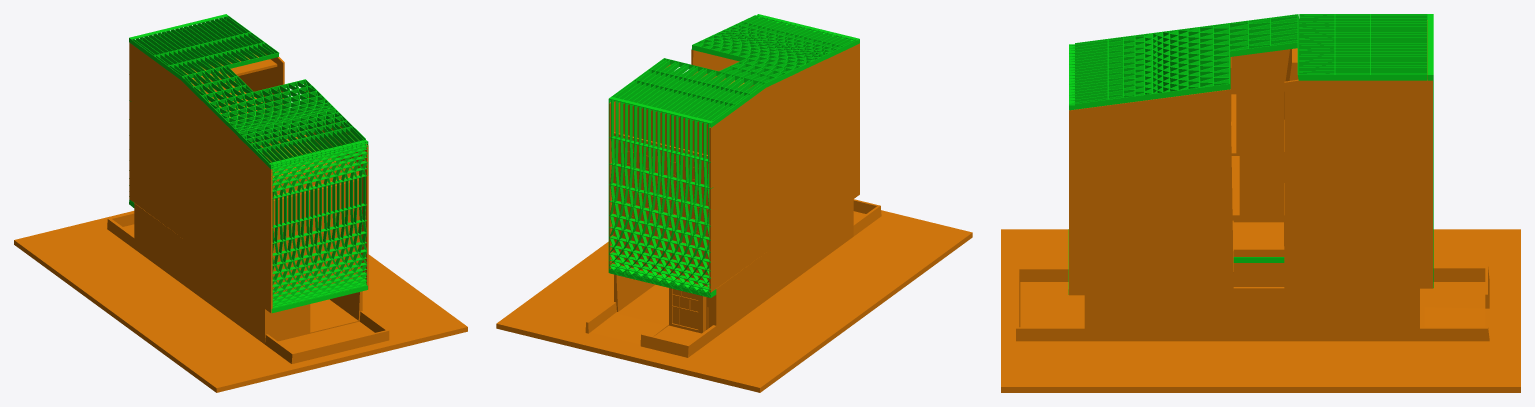
File: PencilBuilding.fbx
3 renders of one model, left to right at view 1: azimuth 30°, elevation 25°; view 2: azimuth 150°, elevation 25°; view 3: azimuth 270°, elevation 25°, orthographic. The views are drawn at different scales.
Visible parts, largest first — view 1: pencil.018, Plane, Cube.009, Cube.007, Cube.012, Cube.008, Cube.047, Plane.001, Cube.006, Cube.020, Cube.010, Cube.003; view 2: Plane, pencil.018, Cube.009, Cube.007, Cube.011, Plane.001, Cube.051, Cube.008, Cube.020, Cube.013, Cube.010, Cube.019; view 3: Cube.008, Plane, pencil.018, Cube.010, Cube.009, Cube.007, Plane.001, Cube.019, Cube.020, Cube.045, Cube.046, Cube.004.
Boxes of the visible parts, x1=… form: pencil.018: x1=129, y1=14, x2=368, y2=313; Plane: x1=14, y1=211, x2=467, y2=392; Cube.009: x1=129, y1=42, x2=272, y2=313; Cube.007: x1=134, y1=203, x2=310, y2=344; Cube.012: x1=273, y1=179, x2=360, y2=300; Cube.008: x1=238, y1=51, x2=368, y2=289; Cube.047: x1=293, y1=330, x2=386, y2=363; Plane.001: x1=310, y1=299, x2=358, y2=333; Cube.006: x1=272, y1=135, x2=358, y2=199; Cube.020: x1=107, y1=212, x2=134, y2=248; Cube.010: x1=330, y1=291, x2=362, y2=321; Cube.003: x1=182, y1=53, x2=277, y2=86; Plane: x1=496, y1=210, x2=972, y2=392; pencil.018: x1=608, y1=14, x2=859, y2=297; Cube.009: x1=709, y1=43, x2=859, y2=292; Cube.007: x1=669, y1=189, x2=853, y2=336; Cube.011: x1=613, y1=139, x2=709, y2=286; Plane.001: x1=591, y1=284, x2=668, y2=344; Cube.051: x1=623, y1=105, x2=707, y2=154; Cube.008: x1=609, y1=49, x2=739, y2=268; Cube.020: x1=640, y1=325, x2=716, y2=357; Cube.013: x1=672, y1=289, x2=698, y2=329; Cube.010: x1=614, y1=274, x2=654, y2=311; Cube.019: x1=585, y1=302, x2=616, y2=333; Cube.008: x1=1069, y1=79, x2=1432, y2=295; Plane: x1=1001, y1=229, x2=1520, y2=392; pencil.018: x1=1068, y1=14, x2=1433, y2=294; Cube.010: x1=1084, y1=287, x2=1419, y2=341; Cube.009: x1=1231, y1=20, x2=1427, y2=222; Cube.007: x1=1233, y1=222, x2=1284, y2=286; Plane.001: x1=1420, y1=307, x2=1485, y2=327; Cube.019: x1=1419, y1=327, x2=1489, y2=341; Cube.020: x1=1433, y1=266, x2=1489, y2=308; Cube.045: x1=1016, y1=327, x2=1084, y2=341; Cube.046: x1=1016, y1=268, x2=1068, y2=281; Cube.004: x1=1231, y1=156, x2=1239, y2=220.
Size of the model in its own units: 2854 by 2301 by 3981.
